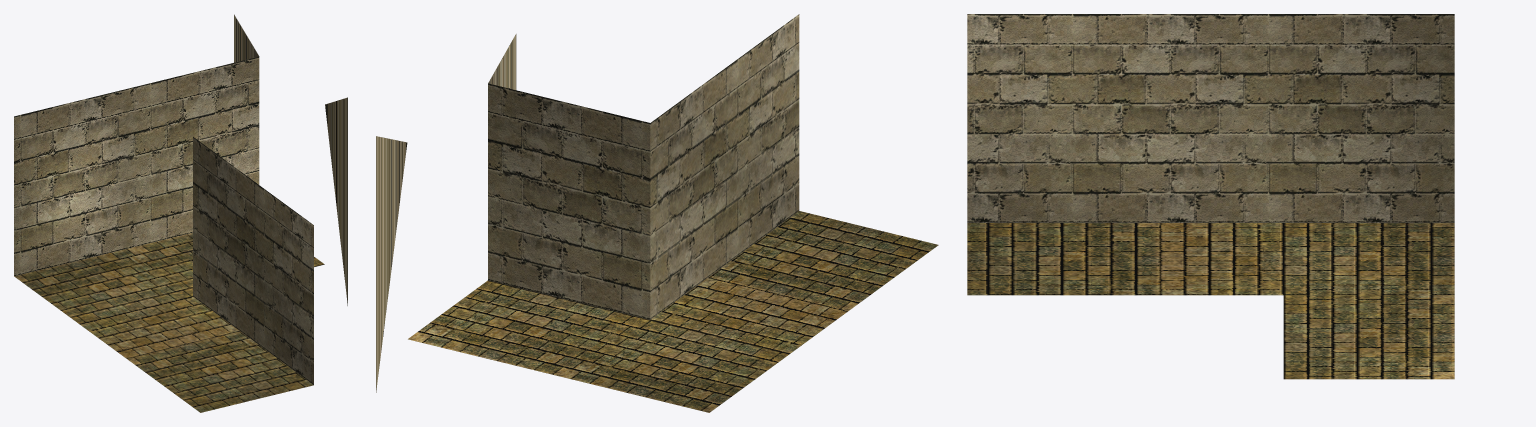
Rendered from M12_DogLeg1.glb.
3 renders of one model, left to right at view 1: azimuth 30°, elevation 25°; view 2: azimuth 150°, elevation 25°; view 3: azimuth 270°, elevation 25°, orthographic. The views are drawn at different scales.
Visible parts, largest first — view 1: M12_DOGLEG1; view 2: M12_DOGLEG1; view 3: M12_DOGLEG1.
Part boxes in pixels (<box>): M12_DOGLEG1: <box>14,14,347,412</box>; M12_DOGLEG1: <box>376,14,938,412</box>; M12_DOGLEG1: <box>967,14,1454,379</box>.
Bounding box in the file's own units: 4.32 × 3.53 × 6.47.
3 materials, 3 textured.
